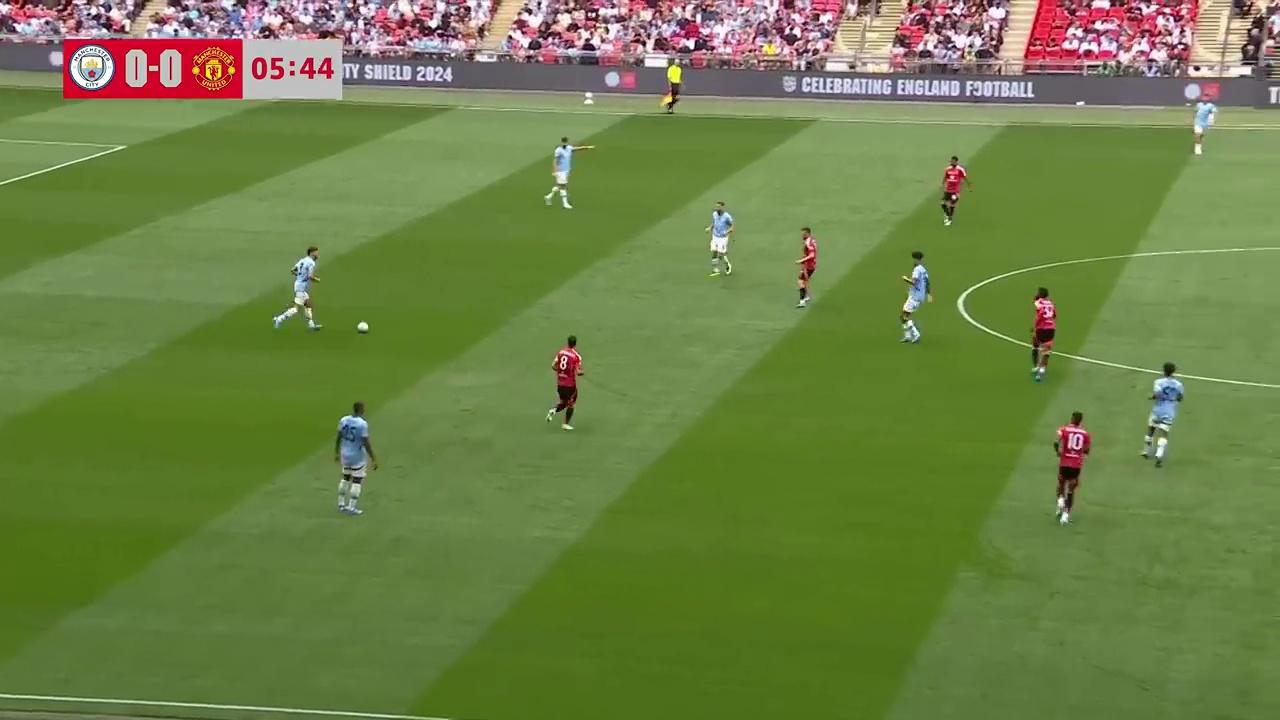ball: (354, 317, 370, 334)
player: (334, 400, 377, 514), (1143, 361, 1184, 468), (272, 247, 323, 333), (1053, 411, 1091, 525), (548, 335, 586, 430), (898, 251, 933, 345), (544, 136, 583, 209), (1029, 286, 1056, 382), (940, 155, 971, 226), (706, 201, 734, 276), (795, 226, 816, 307), (1190, 97, 1215, 155)
referee: (661, 59, 683, 115)
